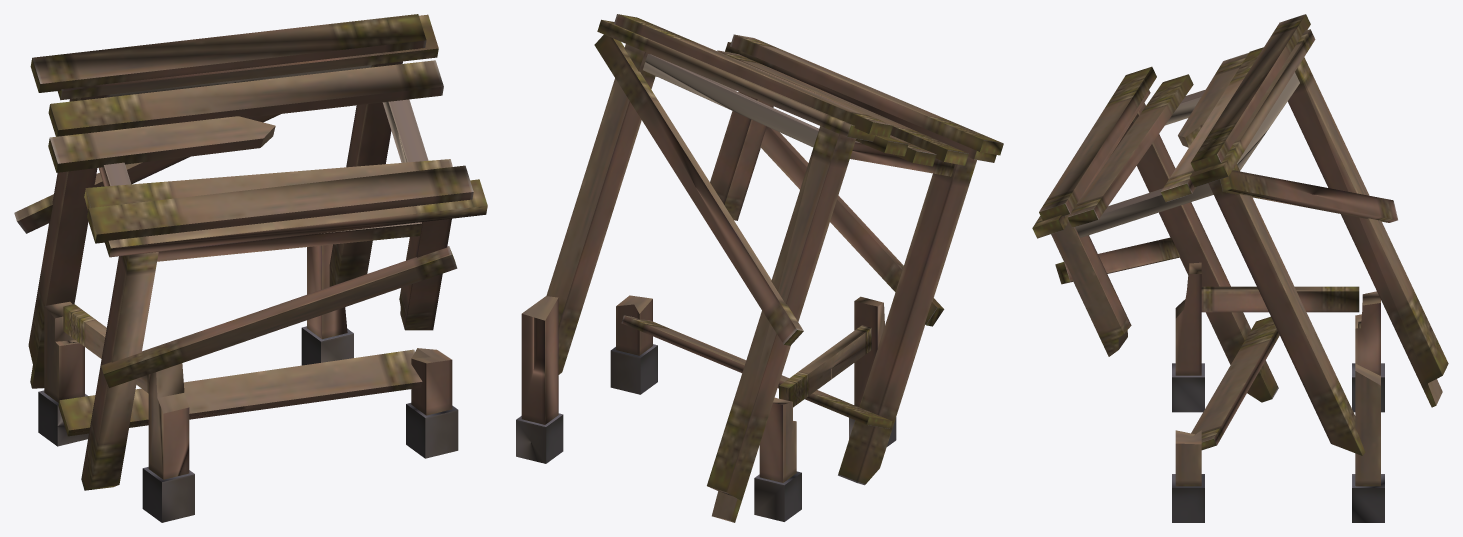
File: posun01_R.fbx
3 renders of one model, left to right at view 1: azimuth 30°, elevation 25°; view 2: azimuth 150°, elevation 25°; view 3: azimuth 270°, elevation 25°, orthographic. The views are drawn at different scales.
Parts seen in each view (by area): view 1: posun01_R; view 2: posun01_R; view 3: posun01_R.
Part boxes in pixels (left/top/right/bottom): posun01_R: left=14, top=14, right=487, bottom=522; posun01_R: left=516, top=14, right=1003, bottom=522; posun01_R: left=1032, top=14, right=1448, bottom=522.
Bounding box in the file's own units: 2.54 × 2.61 × 2.69.
